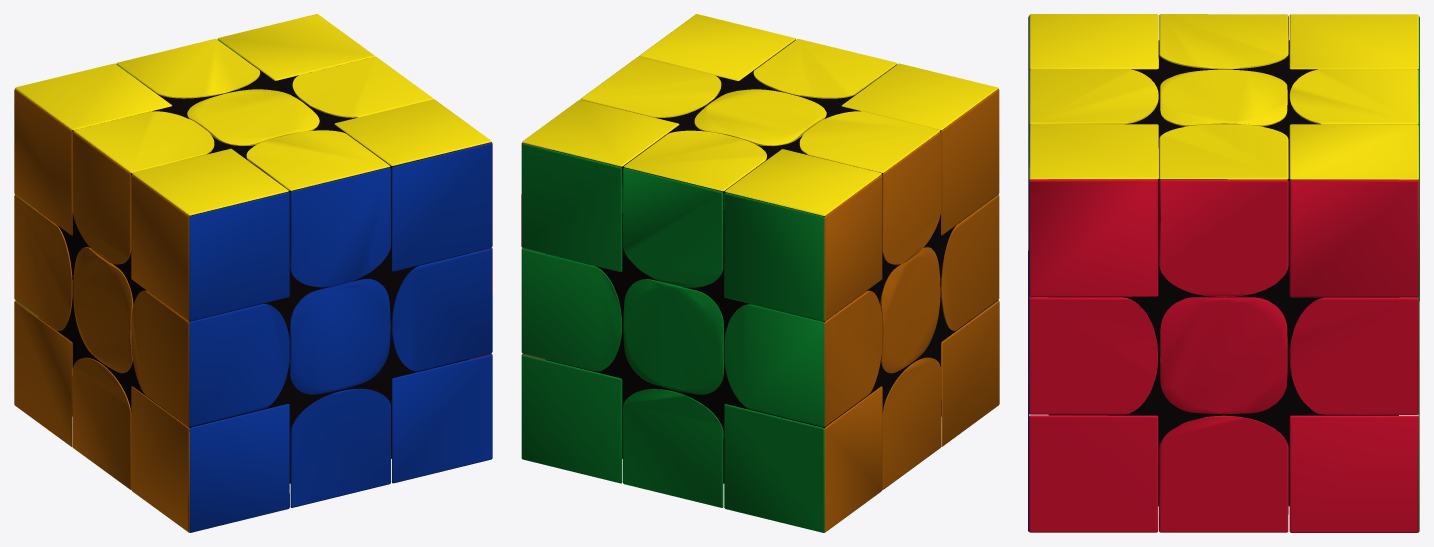
Rendered from rubiks.glb.
The picture shows the model from 3 angles, left to right: view 1: azimuth 30°, elevation 25°; view 2: azimuth 150°, elevation 25°; view 3: azimuth 270°, elevation 25°; orthographic projection. The views are drawn at different scales.
Visible parts, largest first — view 1: Object_2; view 2: Object_2; view 3: Object_2.
Part boxes in pixels (x1,y1,x2,y2): Object_2: [14, 14, 492, 532]; Object_2: [521, 14, 999, 532]; Object_2: [1028, 14, 1419, 532].
Size of the model in its own units: 56.12 by 56.22 by 56.16.
Materials: 1 (1 with a texture image).
